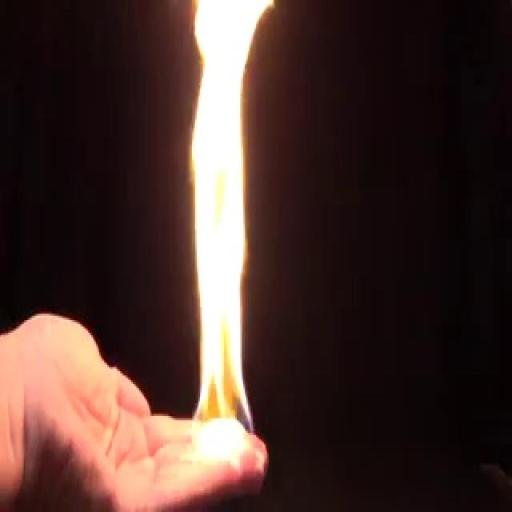smoke: (170, 2, 276, 469)
